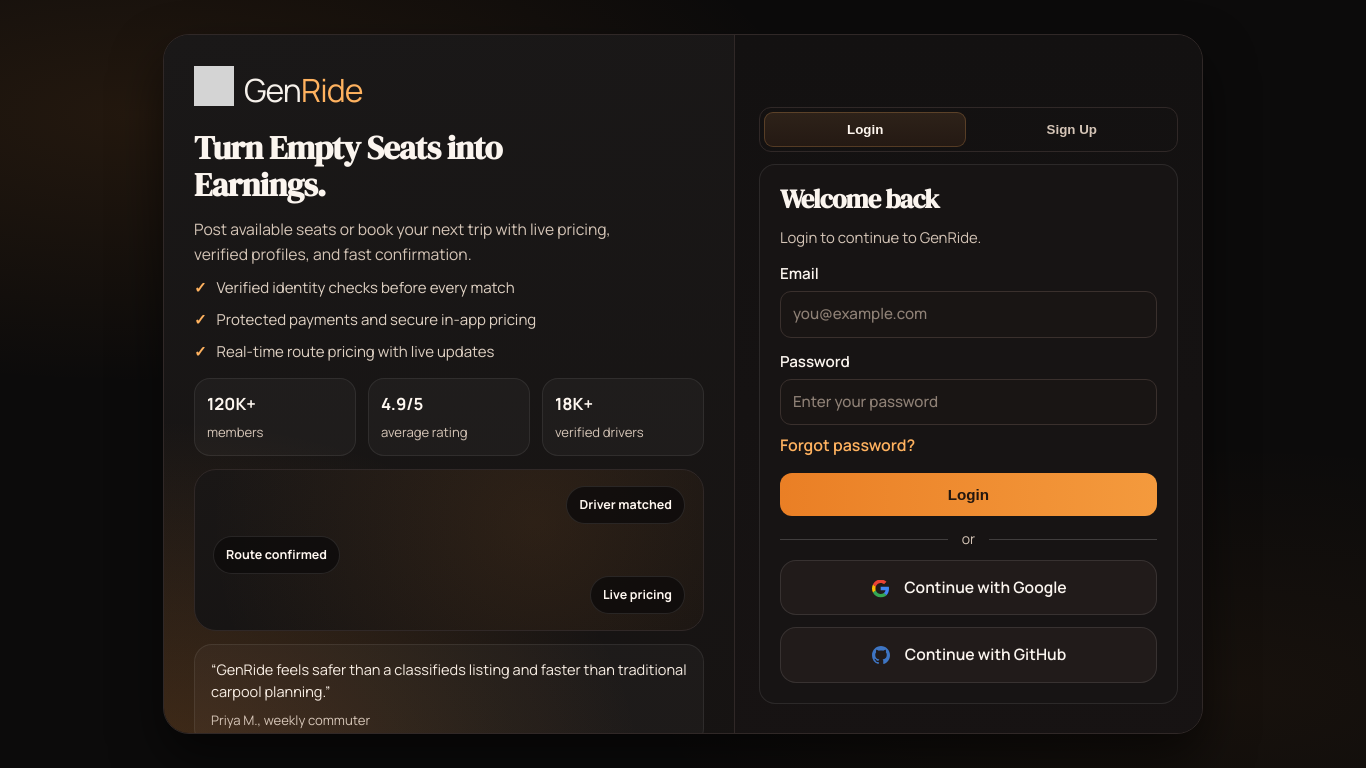
Scenario: App auth screen › shows validation errors when login is submitted empty
The image size is (1366, 768).
Click the button "Login" at (968, 494), box [780,473,1157,516]
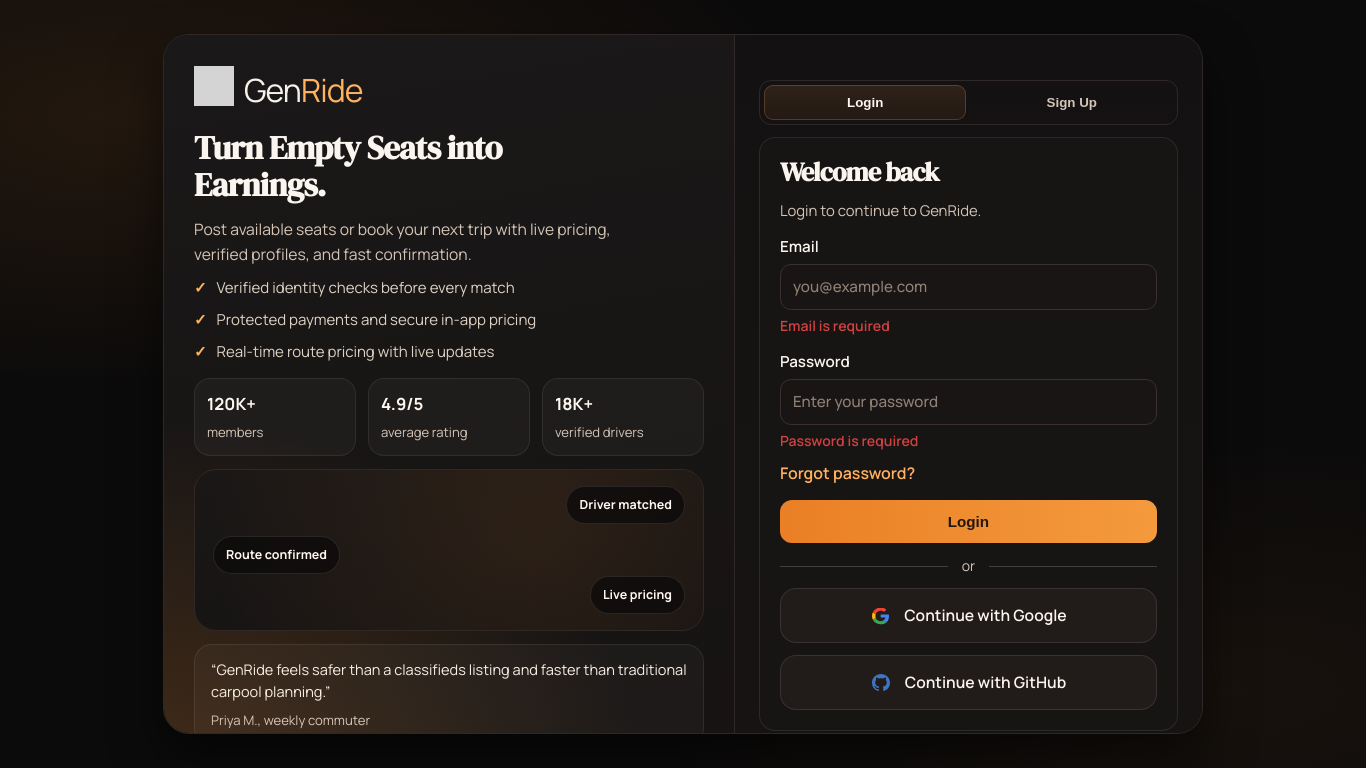
Now the text "Email is required" is shown, box [780,316,890,335]
Now the text "Password is required" is shown, box [780,431,918,450]
